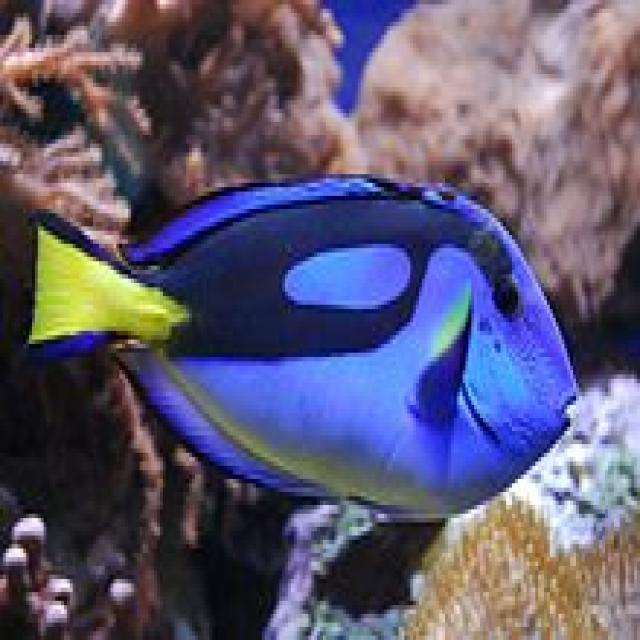BlueTang: (34, 182, 578, 512)
